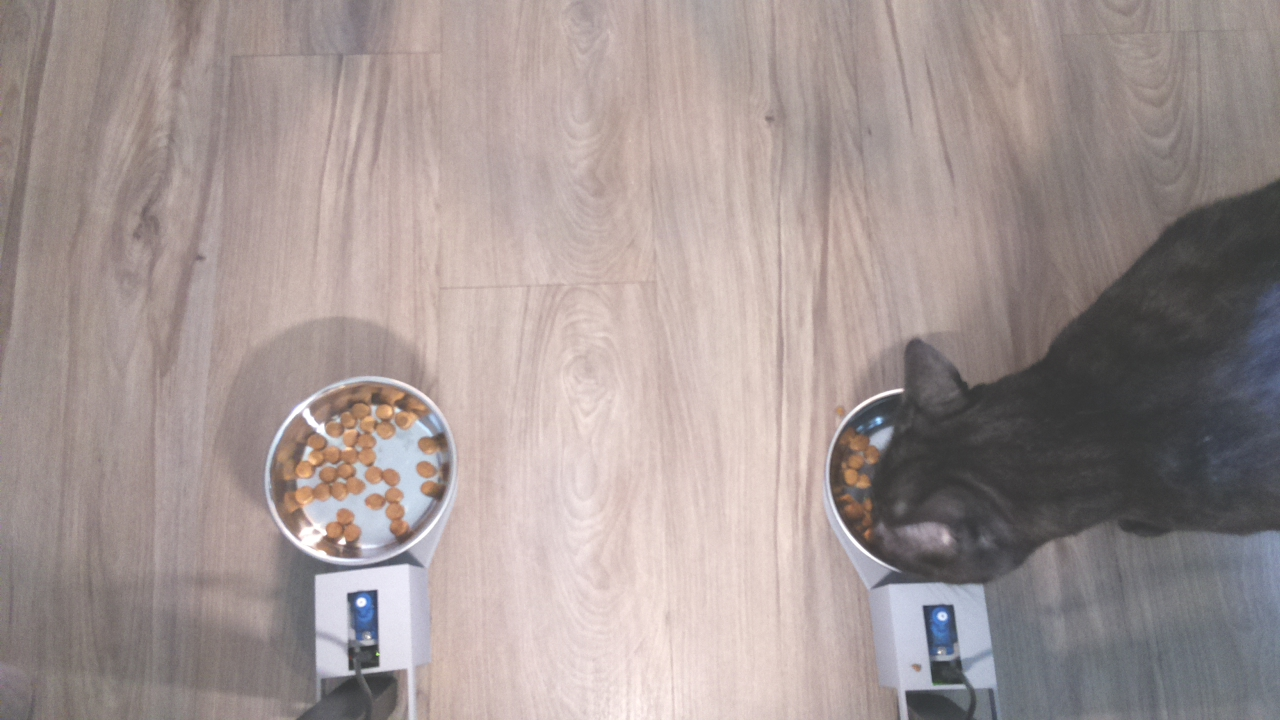open_bowl: (259, 372, 459, 568)
saki_eating: (820, 330, 1086, 591)
